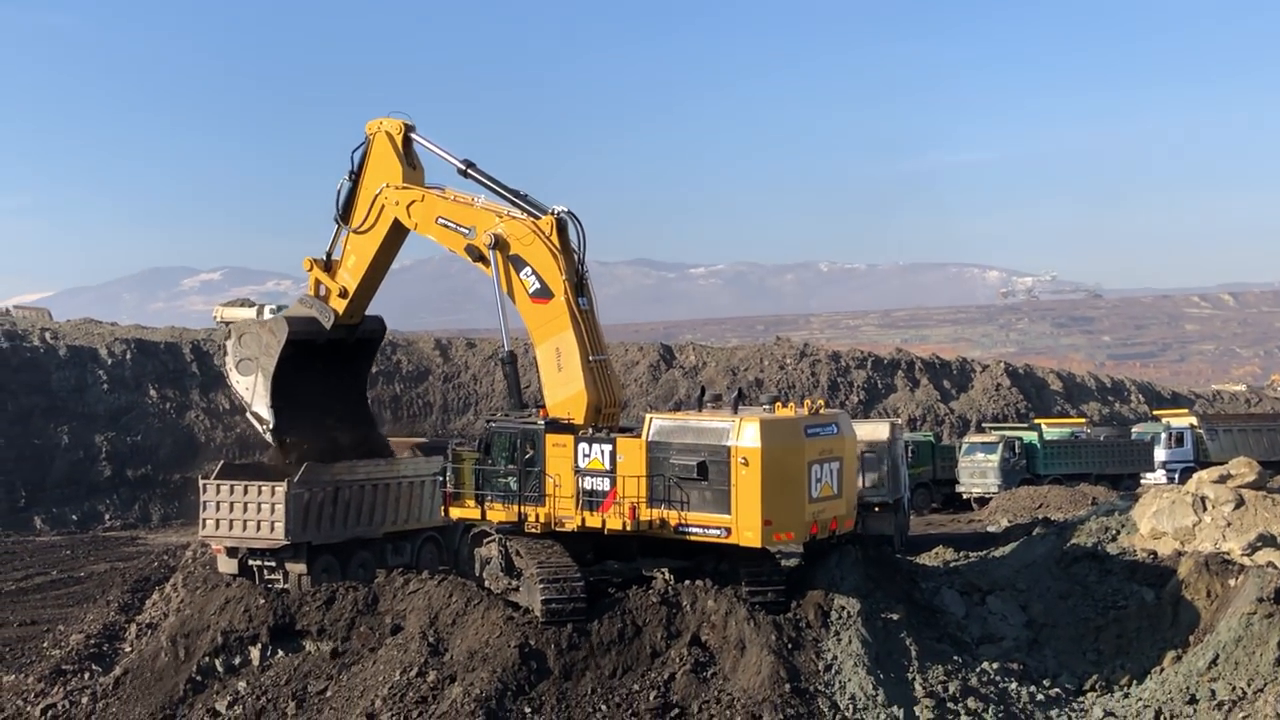full: (220, 297, 385, 454)
